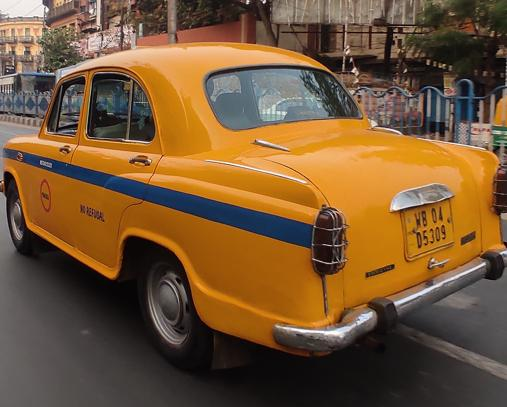Car: (1, 32, 507, 372)
